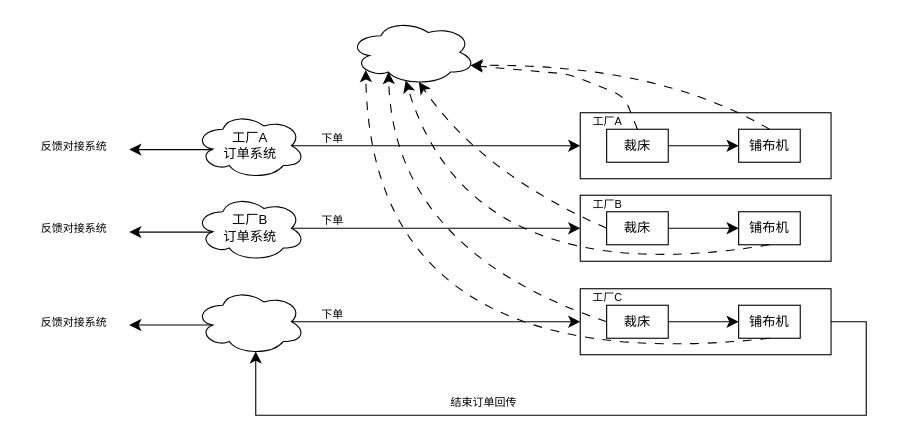
Image size: 897x446. Some labels were removed from this diagram. The centre of each missing label's shape, as x and y in pixels:
"工厂C 订单系统" belongs at (249,321).
"效率系统" belongs at (412,51).
